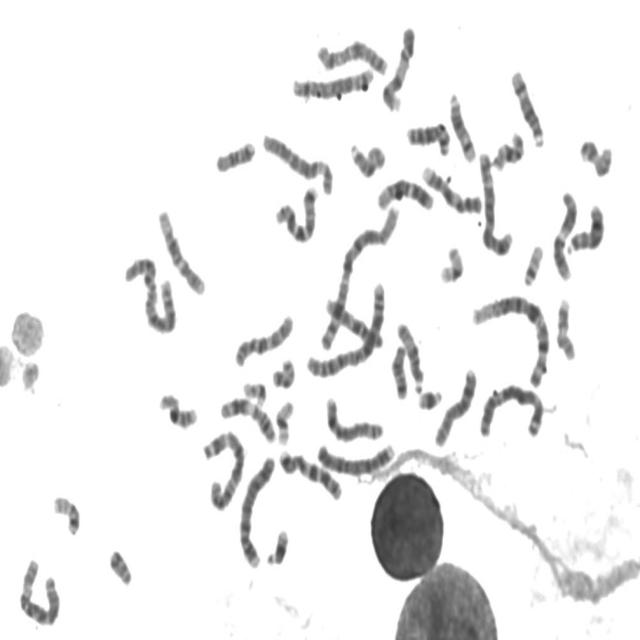A1: (317, 199, 402, 354), (467, 286, 552, 388)
A2: (302, 276, 387, 381), (119, 250, 178, 336)
A3: (476, 377, 546, 441), (200, 423, 247, 513)
B4: (235, 449, 277, 571), (313, 436, 397, 478)
B5: (475, 146, 514, 257), (288, 60, 376, 102)
C10: (230, 308, 296, 370), (322, 293, 385, 351)
C11: (216, 390, 278, 446), (549, 185, 580, 283)
C12: (154, 202, 208, 298), (373, 172, 436, 214)
C6: (259, 127, 335, 197), (15, 552, 62, 628)
C7: (275, 444, 344, 502), (272, 179, 320, 246)
C8: (431, 362, 478, 449), (322, 391, 385, 444)
C9: (418, 160, 484, 217), (378, 20, 417, 114)
D13: (564, 198, 606, 255), (403, 115, 452, 158)
D14: (507, 63, 546, 148), (445, 85, 478, 165)
D15: (393, 316, 426, 394), (346, 137, 387, 180)
E16: (155, 386, 199, 432), (488, 125, 526, 172)
E17: (576, 132, 614, 179), (553, 292, 578, 363)
E18: (212, 134, 256, 175), (388, 340, 410, 401)
F19: (436, 240, 466, 286), (272, 394, 296, 448)
F20: (49, 490, 81, 538), (269, 352, 297, 390)
G21: (262, 522, 290, 568), (414, 383, 444, 412)
G22: (520, 238, 545, 288), (239, 375, 268, 408)
X: (313, 34, 390, 78)
Y: (105, 542, 133, 588)
